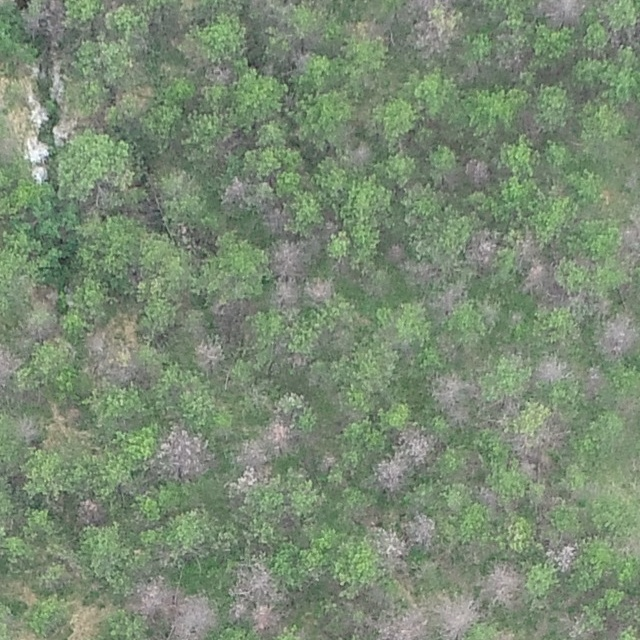unhealthy: (230, 561, 286, 631), (152, 422, 215, 482), (510, 418, 569, 474), (81, 316, 134, 371), (87, 336, 139, 388), (409, 5, 458, 57), (169, 589, 221, 638), (430, 372, 473, 427), (434, 590, 481, 637), (126, 576, 174, 618), (482, 561, 525, 606), (22, 1, 66, 42), (377, 605, 430, 639), (597, 314, 638, 357), (414, 272, 461, 308), (397, 423, 438, 464), (268, 237, 308, 279), (464, 228, 499, 271), (374, 454, 410, 493), (535, 0, 588, 26), (233, 437, 270, 474), (209, 296, 253, 327), (528, 419, 567, 453), (82, 322, 117, 358), (371, 527, 408, 560), (434, 281, 469, 315), (545, 538, 578, 573), (233, 458, 269, 490), (406, 512, 438, 548), (616, 216, 640, 263), (520, 262, 551, 298), (534, 354, 570, 384), (23, 315, 61, 343), (261, 202, 293, 234), (27, 282, 60, 313), (191, 338, 224, 369), (402, 258, 438, 286), (75, 495, 108, 525), (264, 416, 292, 451), (352, 17, 391, 42), (463, 156, 493, 188), (513, 231, 542, 264), (214, 128, 246, 156), (0, 344, 22, 384), (496, 48, 531, 73), (221, 175, 251, 204), (305, 276, 335, 304), (583, 364, 609, 396), (272, 279, 299, 308), (517, 108, 542, 139), (346, 140, 373, 168), (206, 61, 236, 86), (252, 604, 279, 631), (14, 414, 41, 441), (474, 483, 501, 508), (497, 394, 522, 420), (286, 47, 313, 70), (620, 96, 640, 123), (457, 62, 478, 85), (230, 599, 249, 621), (386, 241, 405, 263), (491, 628, 516, 640)
